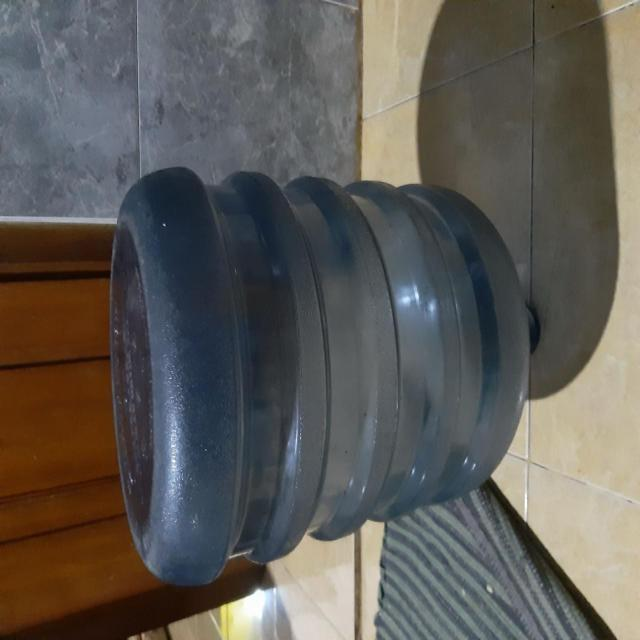Galon: (107, 164, 537, 588)
